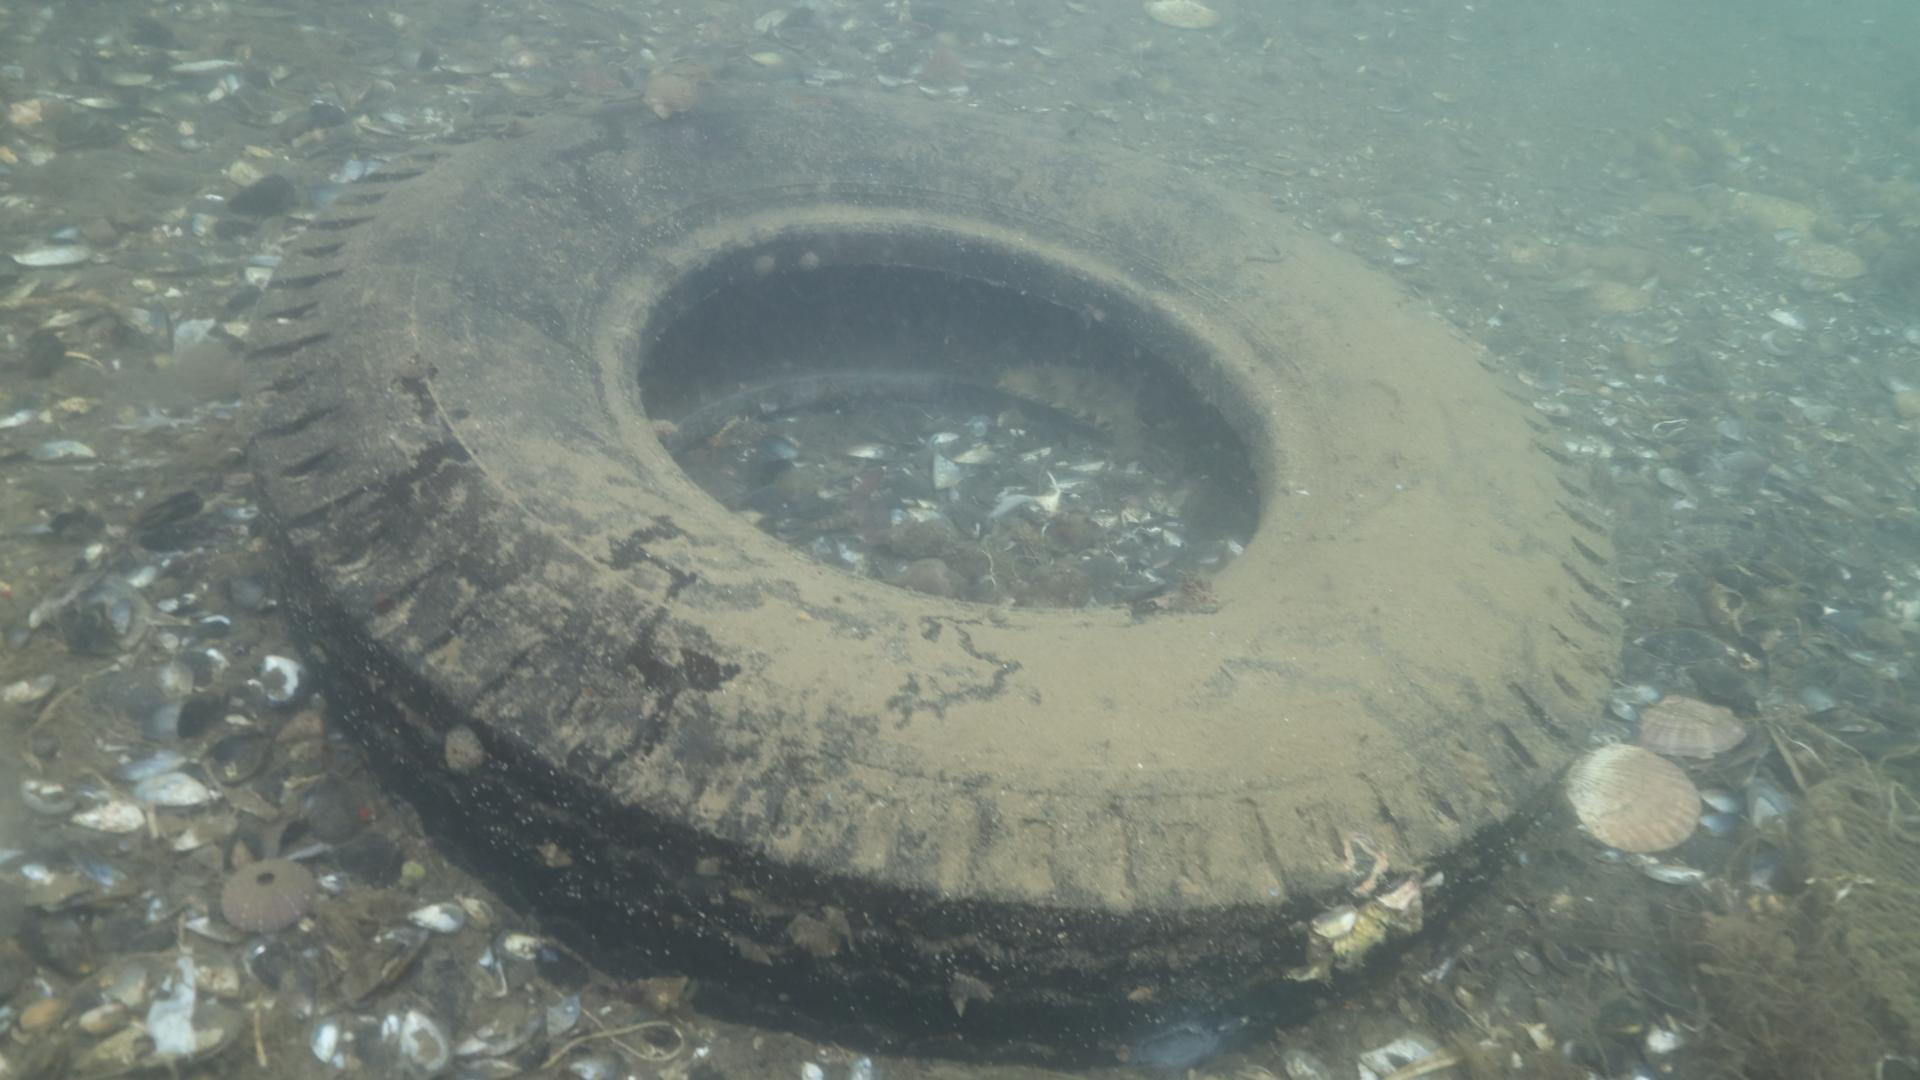tire: (257, 74, 1622, 1047)
